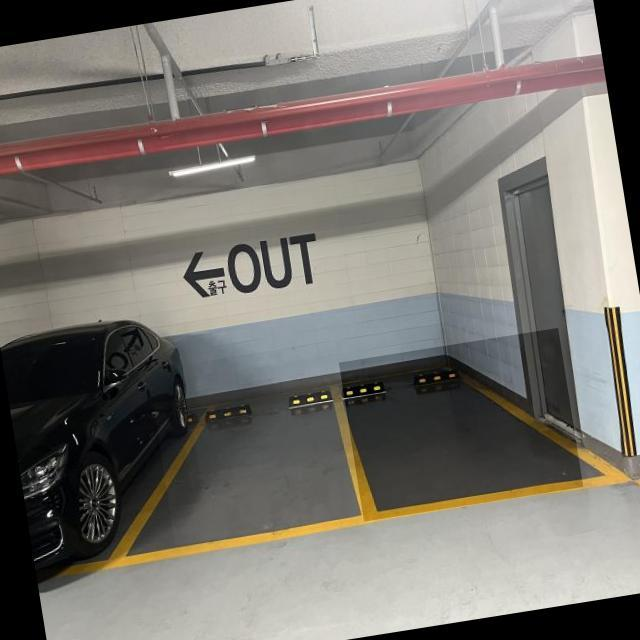empty: (339, 328, 583, 522), (153, 374, 365, 546)
